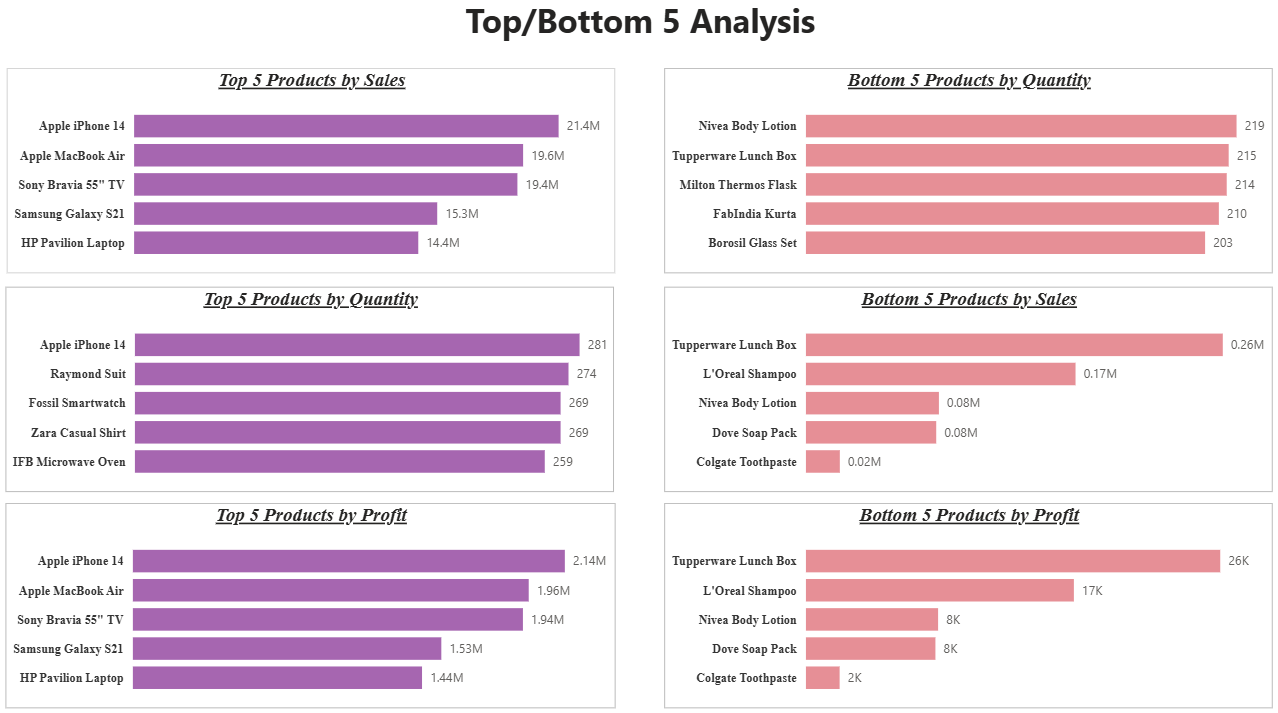

This screenshot's page, from the dashboard's own definition file:
{"tool":"powerbi","page":{"name":"Top/Bottom 5 Analysis","canvas":[1280,720],"ordinal":1},"visuals":[{"type":"barChart","title":"Top 5 Products by Sales","fields":{"Category":["Dim Product.Product Name"],"Y":["Sum(Fact Table.Net Sales)"]},"box":[21.5,15.8,596.3,213.6],"z":0},{"type":"barChart","title":"Bottom 5 Products by Sales","fields":{"Category":["Dim Product.Product Name"],"Y":["Sum(Fact Table.Net Sales)"]},"box":[663.7,15.8,596.3,213.6],"z":1000},{"type":"barChart","title":"Top 5 Products by Quantity","fields":{"Category":["Dim Product.Product Name"],"Y":["Sum(Fact Table.Units Sold)"]},"box":[21.5,243.7,596.3,213.6],"z":2000},{"type":"barChart","title":"Bottom  5 Products by Quantity","fields":{"Category":["Dim Product.Product Name"],"Y":["Sum(Fact Table.Units Sold)"]},"box":[663.7,243.7,596.3,213.6],"z":3000},{"type":"barChart","title":"Top 5 Products by Profit","fields":{"Category":["Dim Product.Product Name"],"Y":["Sum(Fact Table.Profit)"]},"box":[21.5,475.9,596.3,213.6],"z":4000},{"type":"barChart","title":"Bottom 5 Products by Profit","fields":{"Category":["Dim Product.Product Name"],"Y":["Sum(Fact Table.Profit)"]},"box":[663.7,475.9,596.3,213.6],"z":5000}]}

Visuals, with their boxes in screenshot pixels (x1, y1, x2, y2), scaled from the page's 1280x720 canvas onto the 1278x713 screenshot:
"Top 5 Products by Sales" barChart: crop(21, 16, 617, 227)
"Bottom 5 Products by Sales" barChart: crop(663, 16, 1258, 227)
"Top 5 Products by Quantity" barChart: crop(21, 241, 617, 453)
"Bottom  5 Products by Quantity" barChart: crop(663, 241, 1258, 453)
"Top 5 Products by Profit" barChart: crop(21, 471, 617, 683)
"Bottom 5 Products by Profit" barChart: crop(663, 471, 1258, 683)
